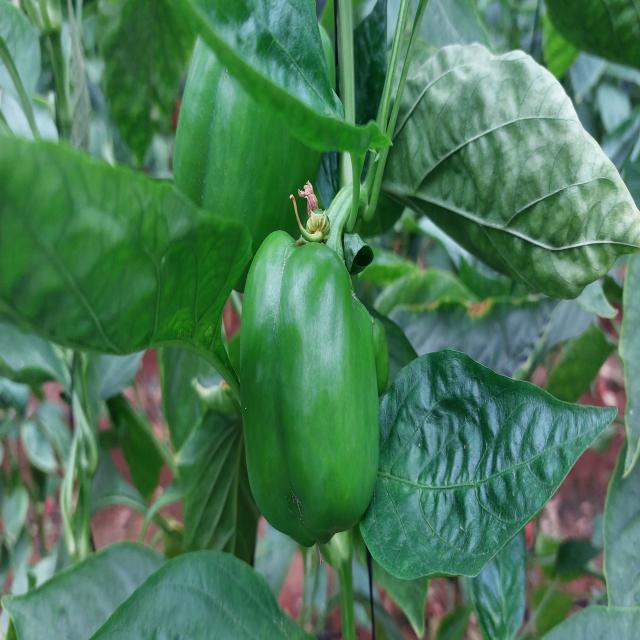Green--Not-ready-to-harvest: (242, 225, 391, 545)
